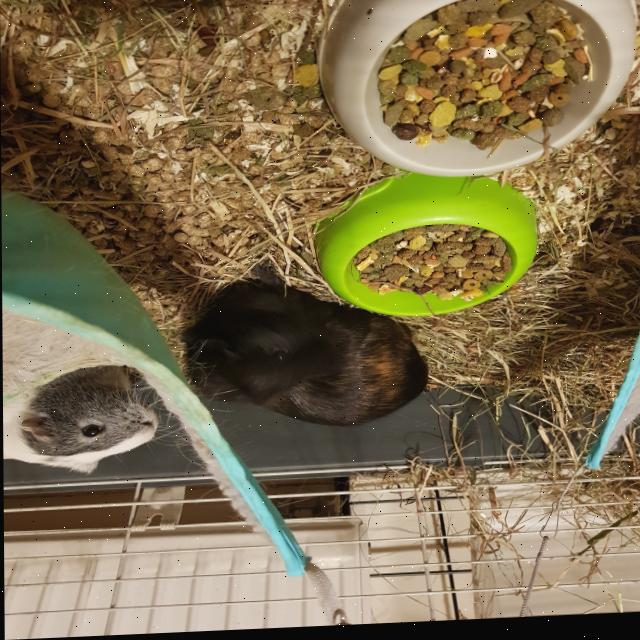guinea pig: (175, 262, 430, 438), (2, 360, 160, 480)
